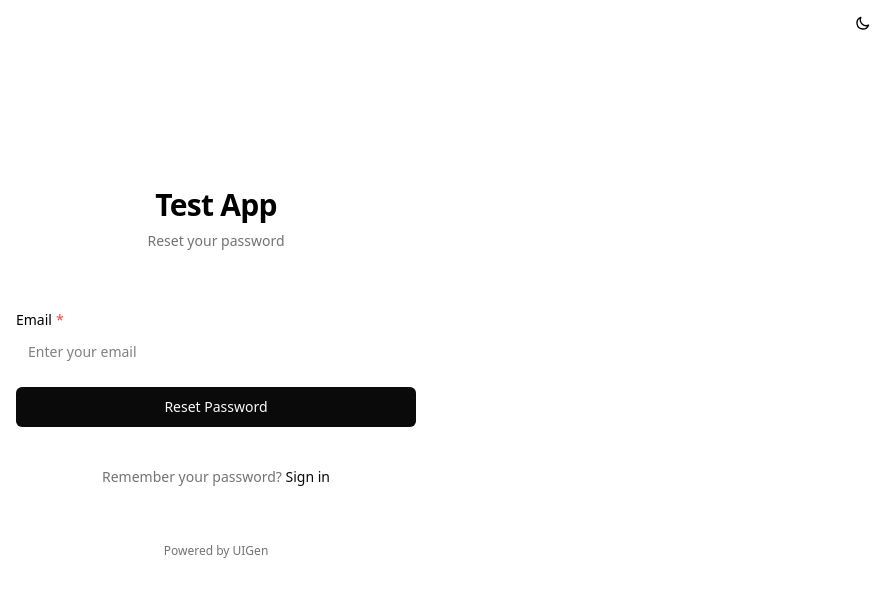
Test: PasswordResetView › should display error message when password reset fails
Type "test@example.com" into the field labelled "Email*".
click(216, 351); type("test@example.com")  # box [16,331,416,371]
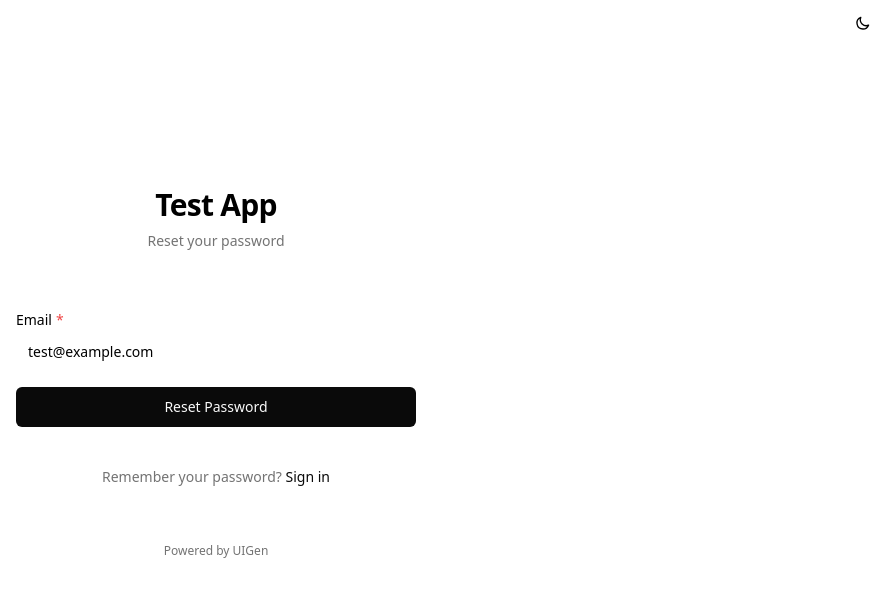
Click the button "Reset Password".
click(216, 407)  # box [16,387,416,427]
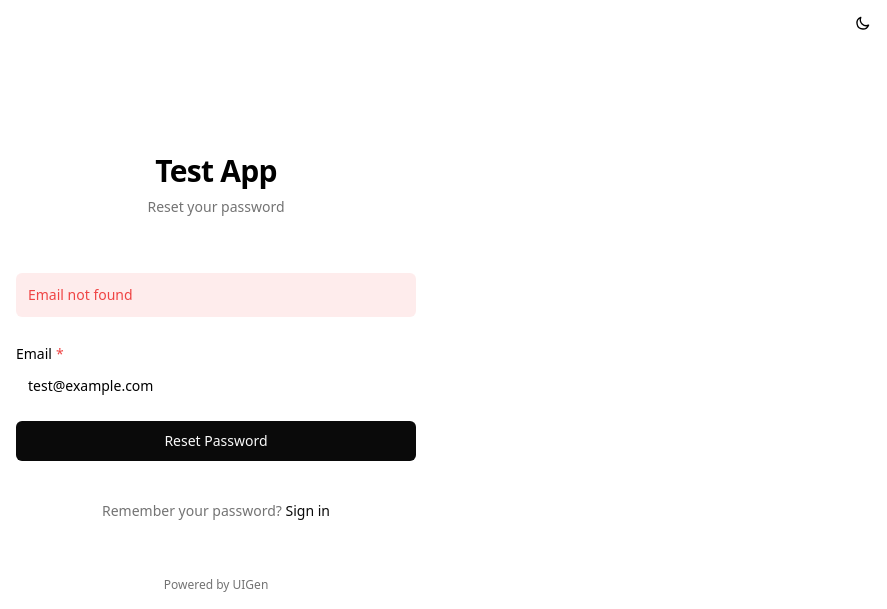
Expected: the text "Email not found" is shown, [16,273,416,317]
